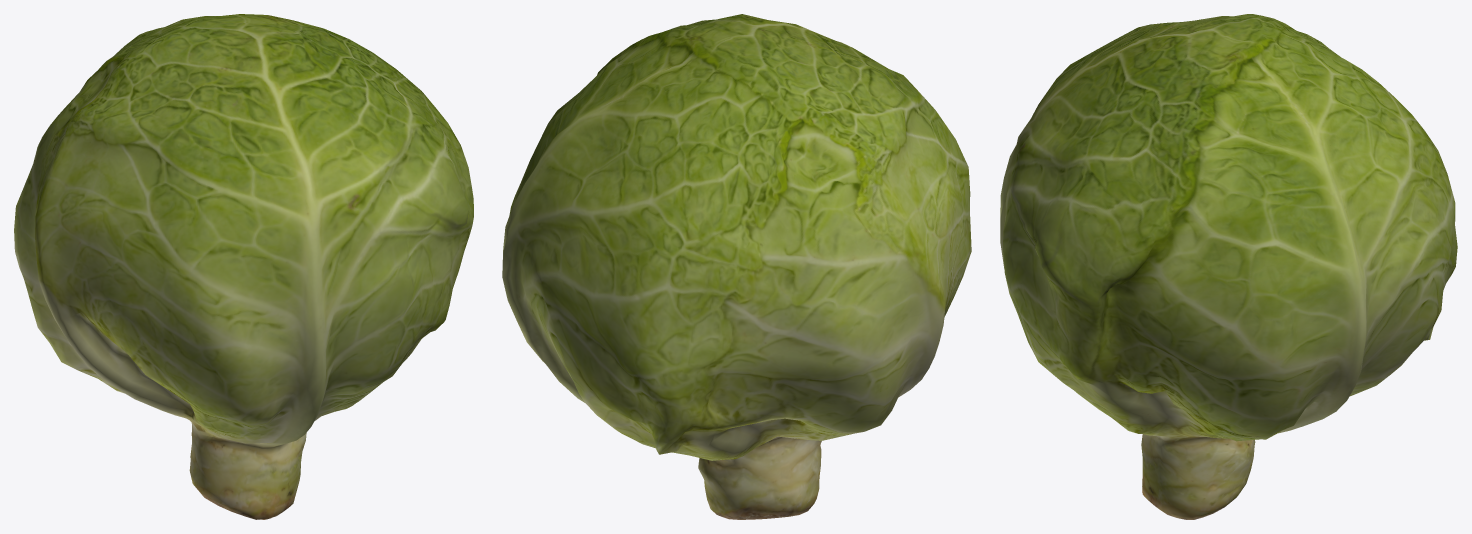
The model's file is Cabbage.fbx.
The picture shows the model from 3 angles, left to right: view 1: azimuth 30°, elevation 25°; view 2: azimuth 150°, elevation 25°; view 3: azimuth 270°, elevation 25°; orthographic projection. The views are drawn at different scales.
Parts seen in each view (by area): view 1: Cabbage1; view 2: Cabbage1; view 3: Cabbage1.
Boxes of the visible parts, box(x1,y1,x2,y2) form: Cabbage1: box(14, 14, 473, 519); Cabbage1: box(502, 14, 971, 519); Cabbage1: box(1000, 14, 1457, 519).
Bounding box in the file's own units: 12.78 × 14.79 × 12.93.
